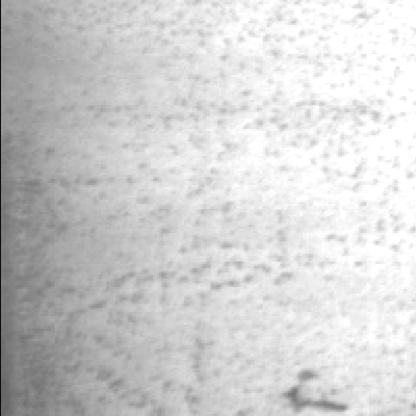pitted_surface: (15, 6, 393, 404)
